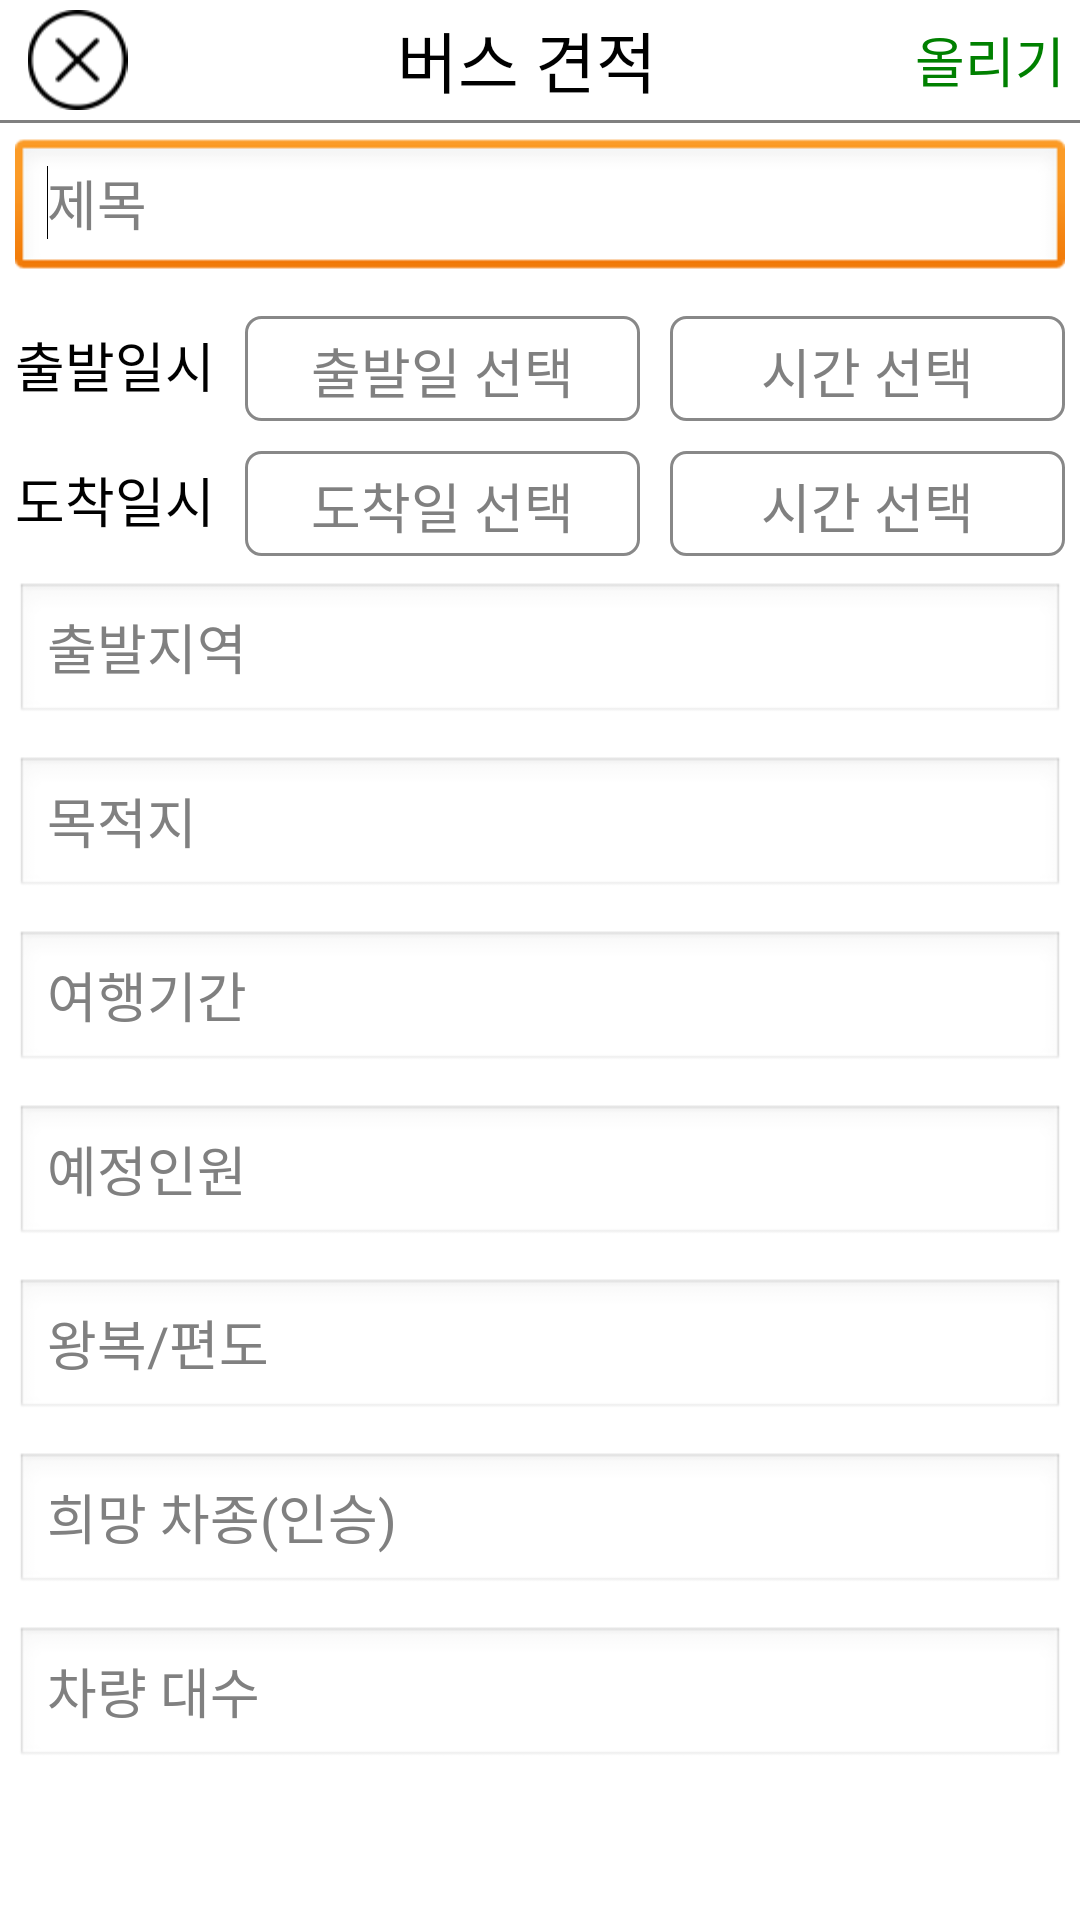

Icon click points for this 1080px×1920px phone screenshot, format (x,y):
xbutton: (78,60)
